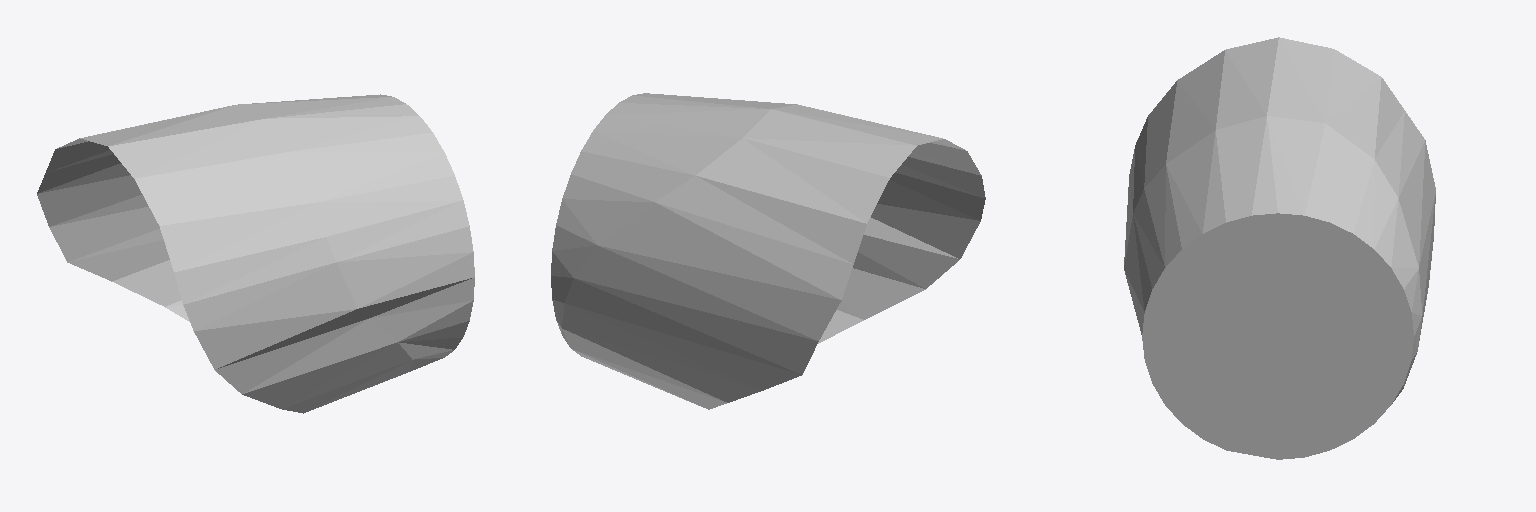
The model's file is LElbowRoll_milky.obj.
3 views of the same model, side by side, from view 1: azimuth 30°, elevation 25°; view 2: azimuth 150°, elevation 25°; view 3: azimuth 270°, elevation 25° (orthographic).
Size of the model in its own units: 0.7673 by 0.714 by 0.6915.